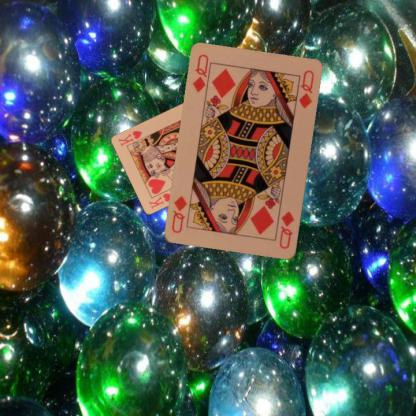Kh: (146, 190, 174, 210)
Qd: (191, 52, 213, 98), (277, 209, 296, 250)
